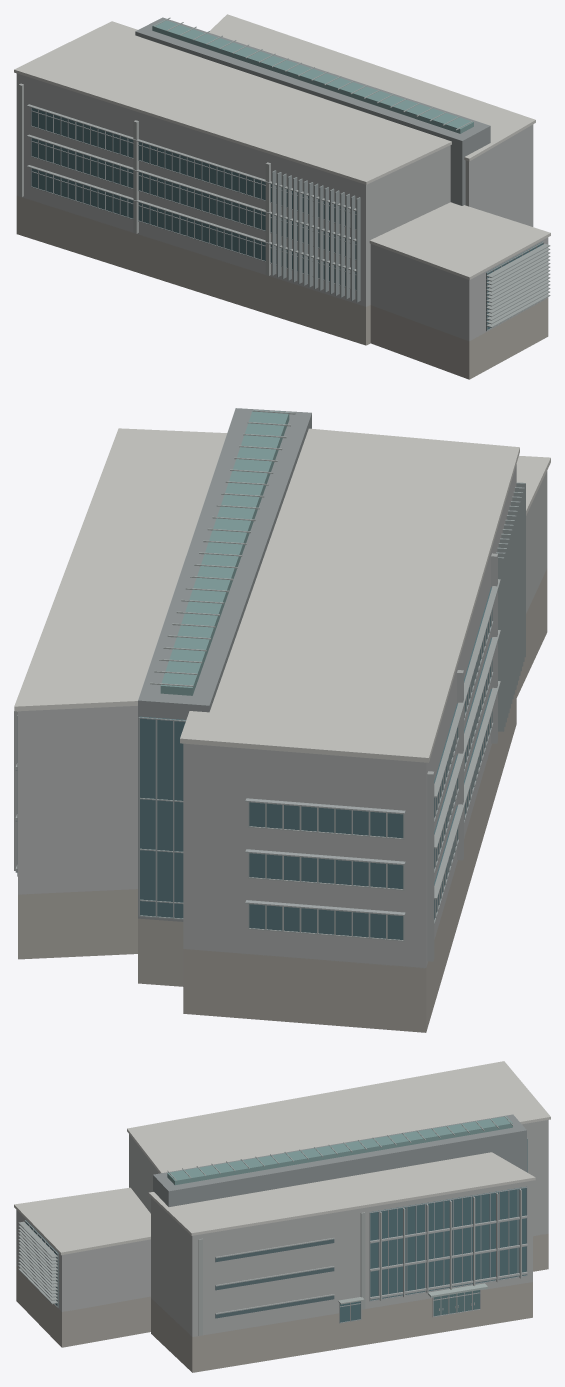
The model's file is ford-alumni-site.glb.
3 renders of one model, top to bottom at view 1: azimuth 30°, elevation 25°; view 2: azimuth 150°, elevation 25°; view 3: azimuth 270°, elevation 25°, orthographic. The views are drawn at different scales.
Visible parts, largest first — view 1: context-b0066; view 2: context-b0066; view 3: context-b0066.
Part boxes in pixels (box(x1,y1,x2,y2)): context-b0066: box(14, 14, 550, 379); context-b0066: box(14, 408, 550, 1032); context-b0066: box(14, 1061, 550, 1372).
Bounding box in the file's own units: 47.82 × 22.47 × 67.82.
